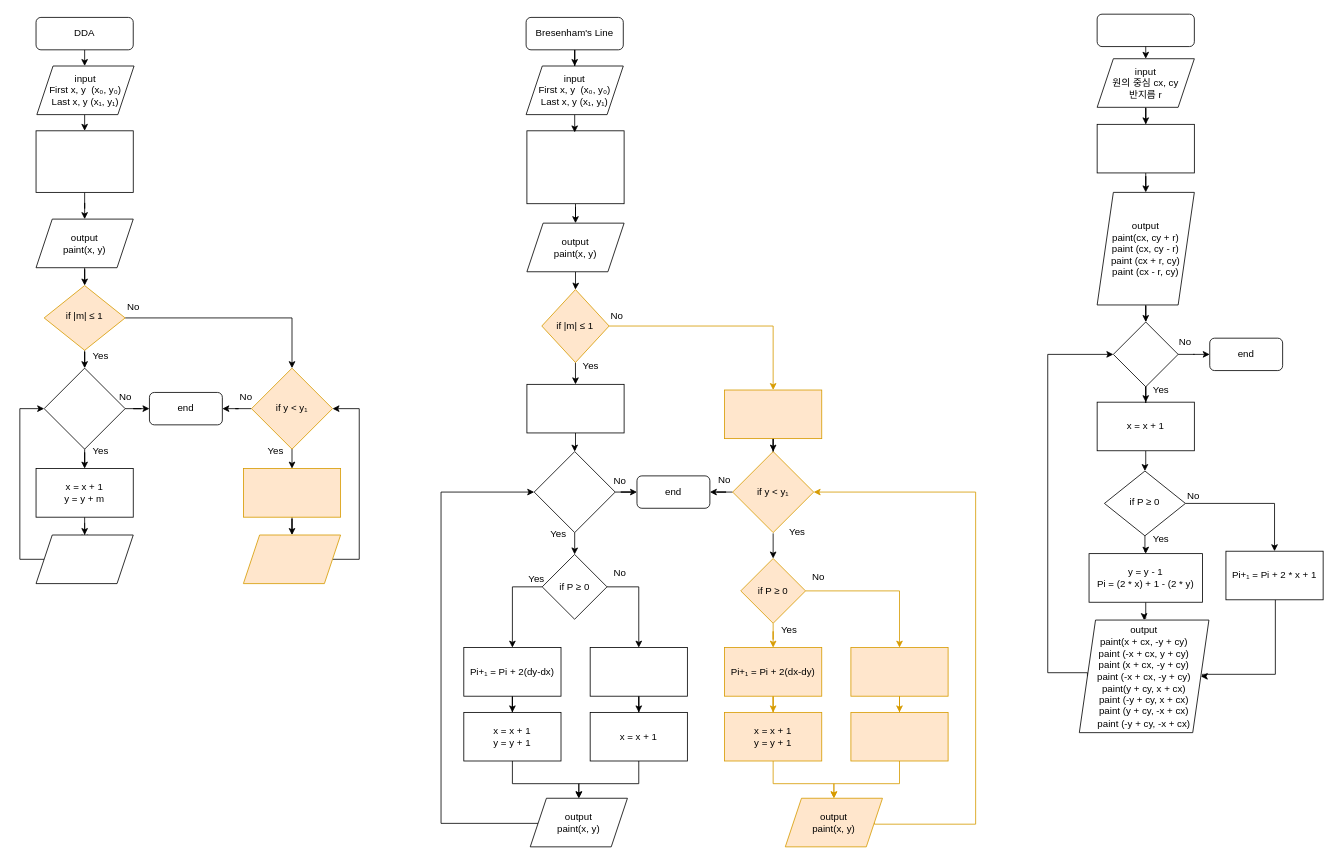
This 1337x861 diagram has some shape labels left out. The centre of each missing label's shape, as x and y in pixels:
"Bresenham's Circle" goes at point 1145,30.
"dx = x₁ - x₀ dy = y₁ - y₀ m = dy / dx x = x0 y = y0" goes at point 575,167.
"if x < x ₁" goes at point 84,408.
"if x < x₁" goes at point 574,492.
"if y > x" goes at point 1145,354.
"output paint(round(x), y)" goes at point 292,559.
"output paint(x, round(y))" goes at point 84,559.
"Pi = 1 - r x = 0 y = r" goes at point 1145,148.
"Pi+₁ = Pi + 2dx" goes at point 899,671.
"Pi+₁ = Pi + 2dy" goes at point 638,671.
"P₀ = 2dx - dy" goes at point 773,414.
"P₀ = 2dy - dx" goes at point 575,408.
"x = x + 1/m y = y + 1" goes at point 292,492.
"x = x0 x = x1 dx = x₁ - x₀ dy = y₁ - y₀ m = dy / dx" goes at point 84,161.
"y = y + 1" goes at point 899,736.
